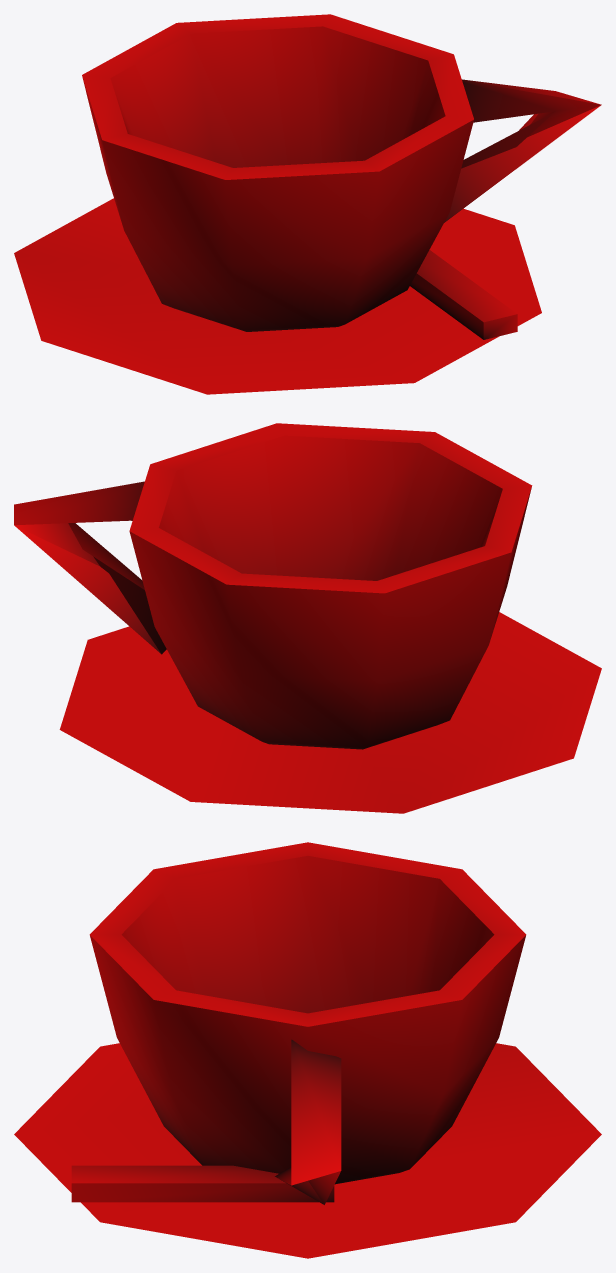
File: CI_Cafe_Cup_Saucer.glb
3 renders of one model, top to bottom at view 1: azimuth 30°, elevation 25°; view 2: azimuth 150°, elevation 25°; view 3: azimuth 270°, elevation 25°, orthographic. The views are drawn at different scales.
Parts seen in each view (by area): view 1: CI_Cafe_Cup_Saucer; view 2: CI_Cafe_Cup_Saucer; view 3: CI_Cafe_Cup_Saucer.
Boxes of the visible parts, x1,y1,x2,y2 form: CI_Cafe_Cup_Saucer: (14, 14, 601, 394); CI_Cafe_Cup_Saucer: (14, 423, 601, 813); CI_Cafe_Cup_Saucer: (14, 842, 601, 1258).
Size of the model in its own units: 0.1962 by 0.077 by 0.168.
